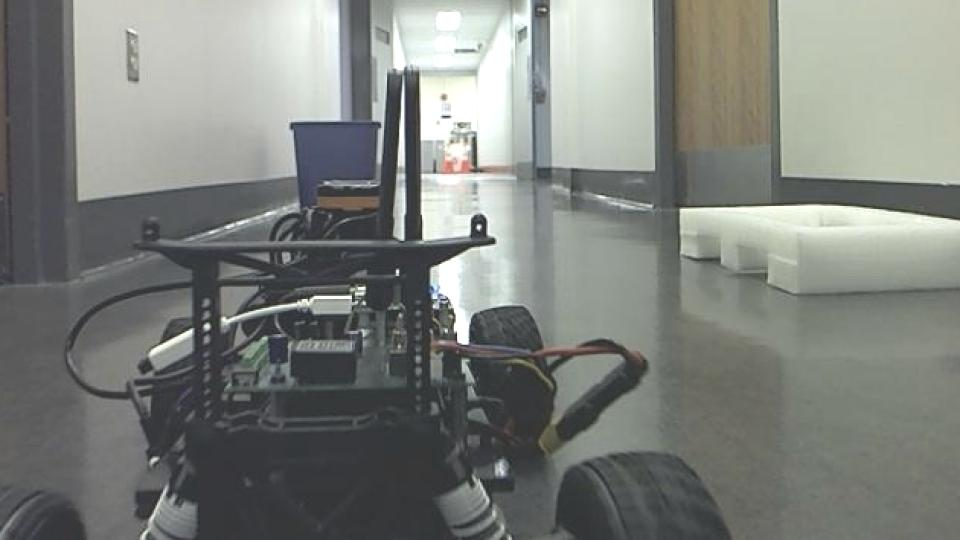car: (26, 64, 737, 540)
